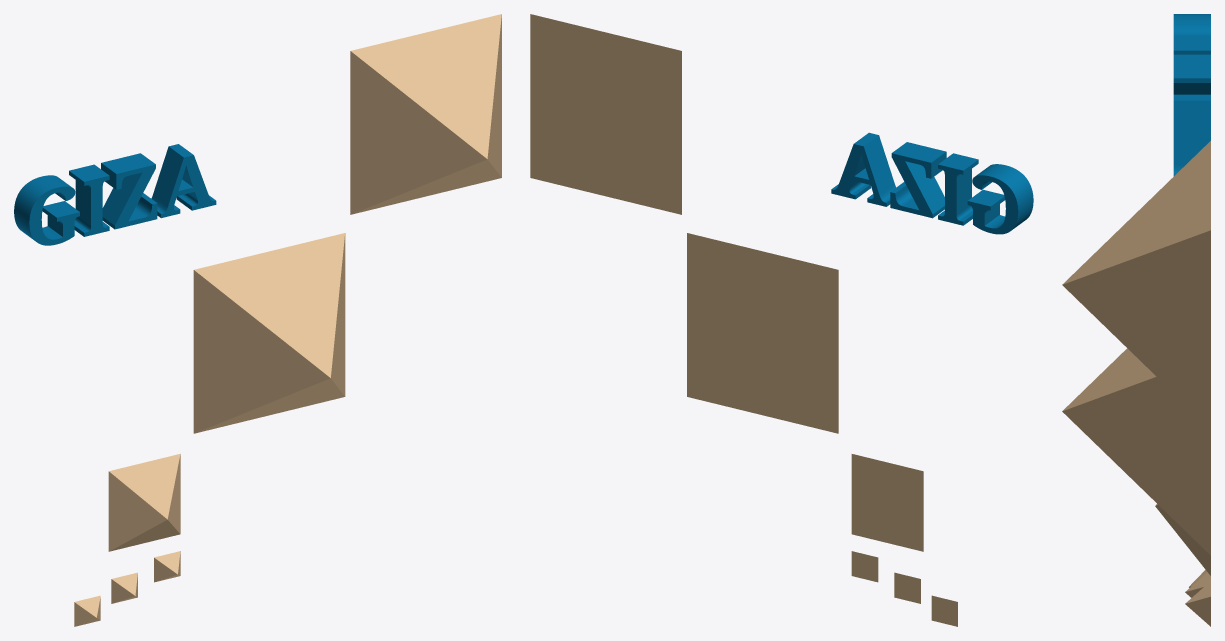
Rendered from tinker.obj.
3 renders of one model, left to right at view 1: azimuth 30°, elevation 25°; view 2: azimuth 150°, elevation 25°; view 3: azimuth 270°, elevation 25°, orthographic. The views are drawn at different scales.
Parts seen in each view (by area): view 1: group_0_14860437, group_0_30377; view 2: group_0_14860437, group_0_30377; view 3: group_0_14860437, group_0_30377.
Boxes of the visible parts, x1=… form: group_0_14860437: x1=74, y1=14, x2=501, y2=626; group_0_30377: x1=14, y1=144, x2=216, y2=245; group_0_14860437: x1=530, y1=14, x2=957, y2=626; group_0_30377: x1=831, y1=132, x2=1033, y2=234; group_0_14860437: x1=1062, y1=141, x2=1210, y2=626; group_0_30377: x1=1173, y1=14, x2=1210, y2=176.
Size of the model in its own units: 184 by 183 by 40.
